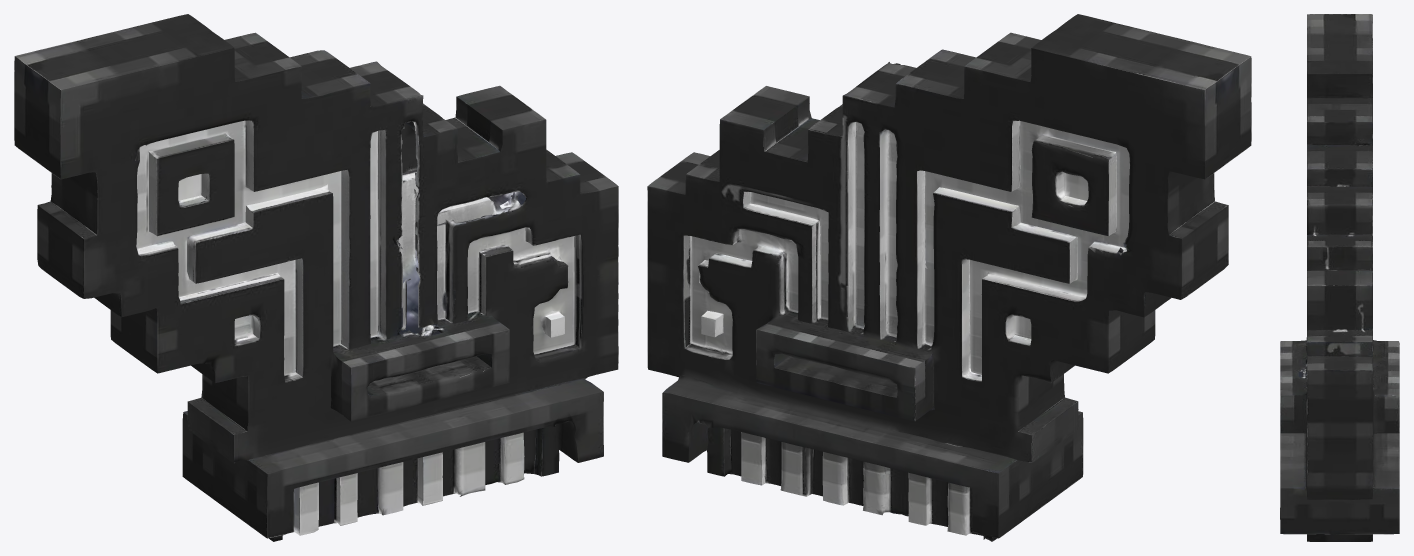
File: module_fragment_option1.glb
3 renders of one model, left to right at view 1: azimuth 30°, elevation 25°; view 2: azimuth 150°, elevation 25°; view 3: azimuth 270°, elevation 25°, orthographic. The views are drawn at different scales.
Visible parts, largest first — view 1: Mesh_0; view 2: Mesh_0; view 3: Mesh_0.
Boxes of the visible parts, x1,y1,x2,y2 form: Mesh_0: [14, 14, 618, 541]; Mesh_0: [647, 14, 1251, 541]; Mesh_0: [1280, 14, 1399, 541].
Bounding box in the file's own units: 1.91 × 1.65 × 0.5026.
1 material, 1 textured.
